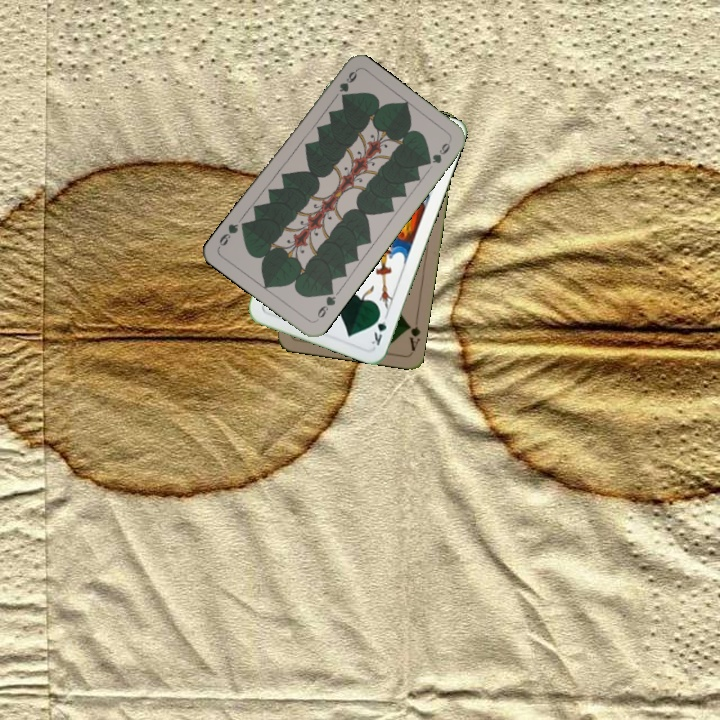G9: (312, 285, 338, 324), (335, 67, 360, 94)
GA: (403, 320, 423, 354)
GK: (367, 308, 390, 348)
